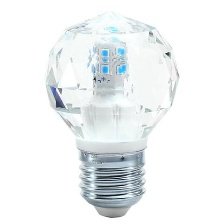light_bulb: (39, 8, 181, 219)
